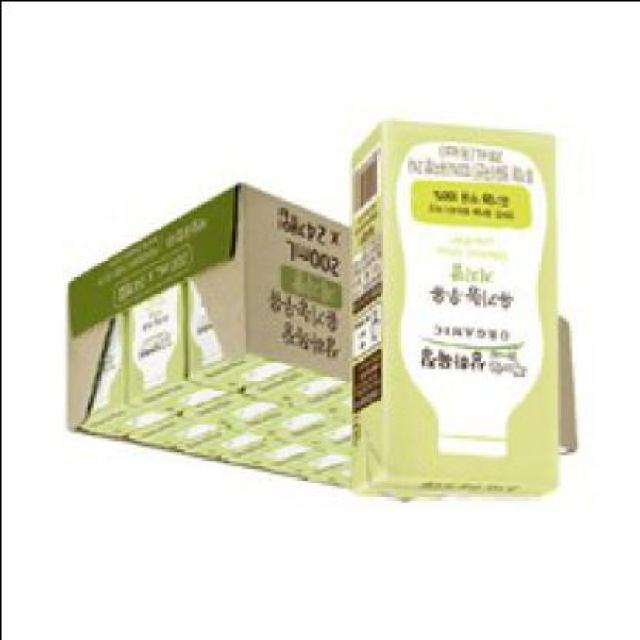tetra: (346, 111, 568, 527)
